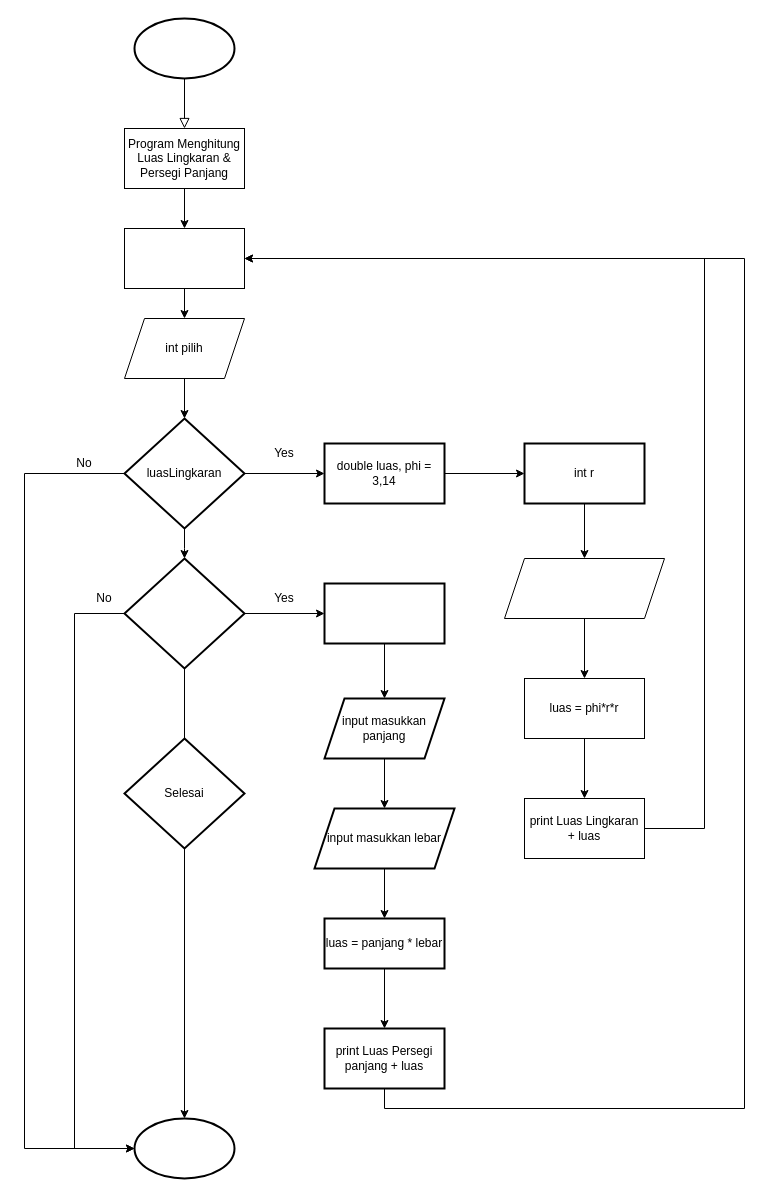
Image size: 770x1196. Some labels were removed from this diagram. The shapes that lost their labels are listed below. From the top down, each one's centre as x and y in pixels, then its label:
(184,48): start
(184,258): 1. Luas Lingkaran 2. Luas Persegi Panjang 3. Selesai
(584,588): input masukkan jari jari
(184,613): luasPersegipanjang
(384,613): int panjang , lebar luas
(184,1148): end
